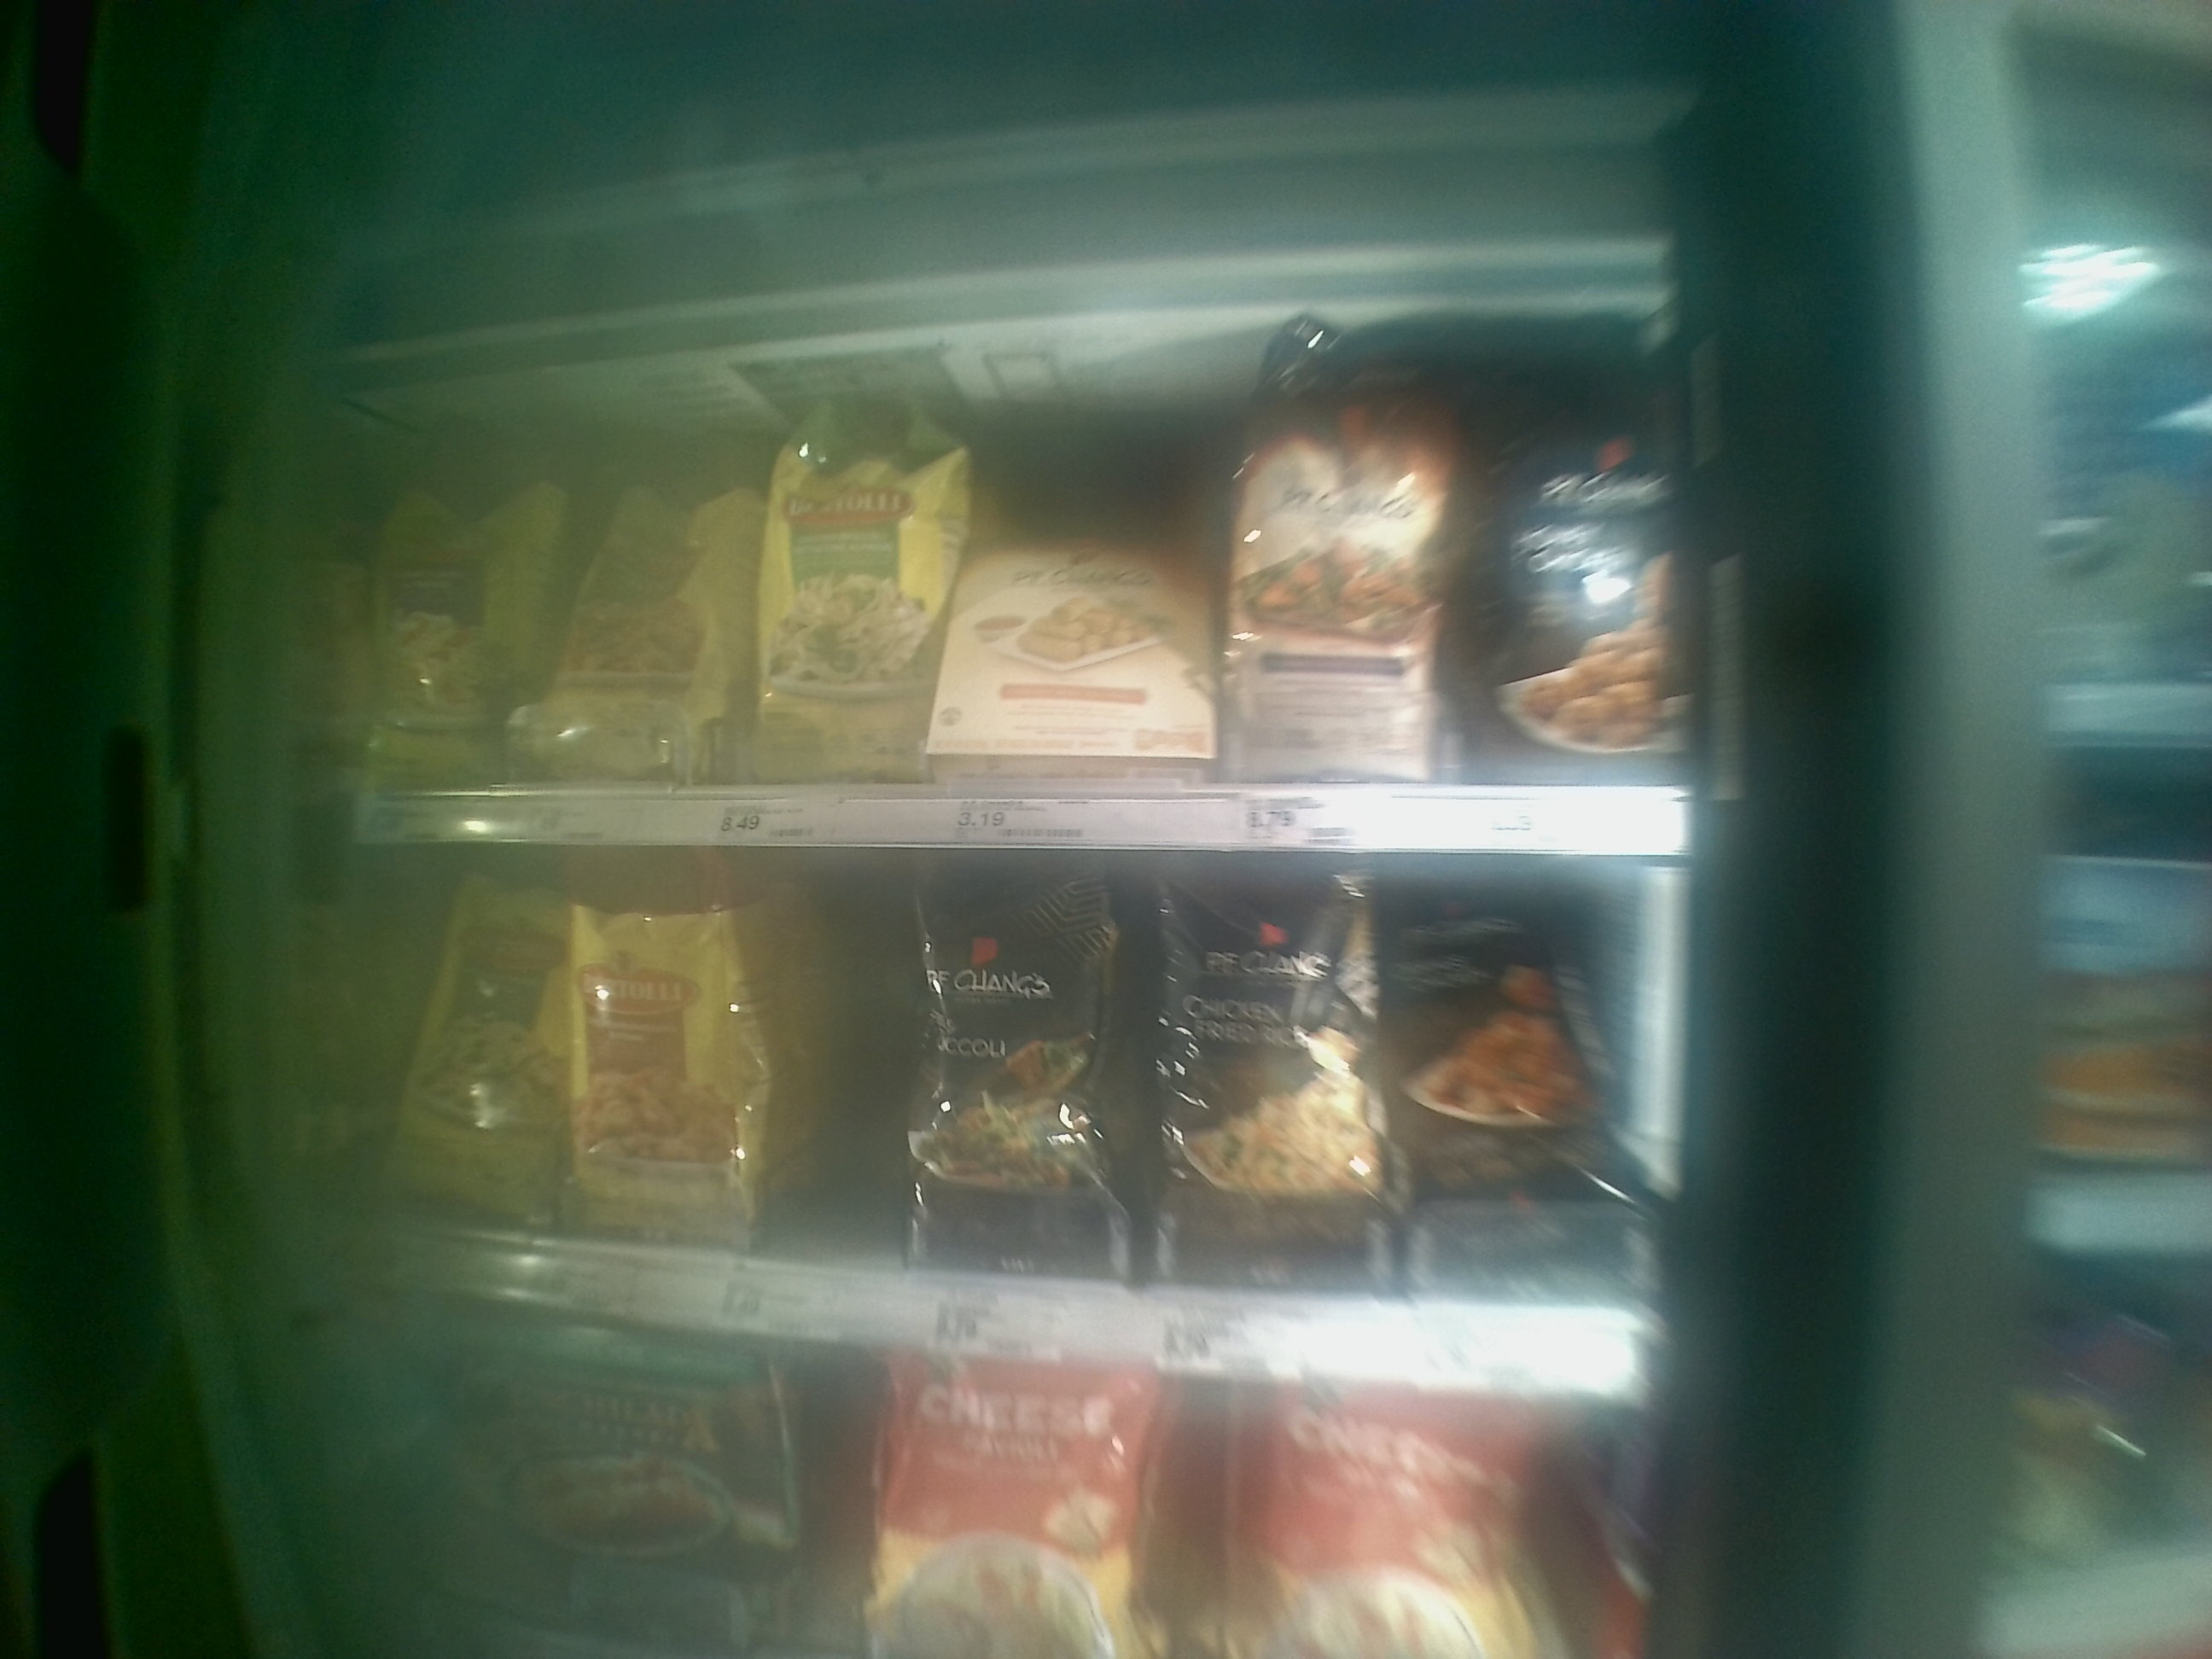shelf: (334, 842, 1787, 1391)
